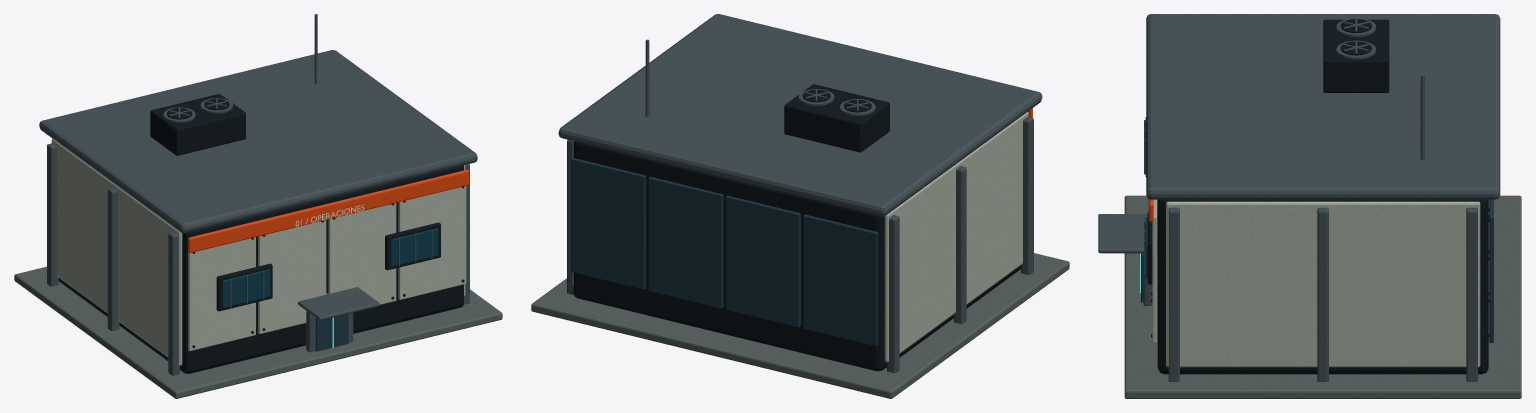
File: Operaciones.gltf
3 views of the same model, side by side, from view 1: azimuth 30°, elevation 25°; view 2: azimuth 150°, elevation 25°; view 3: azimuth 270°, elevation 25° (orthographic). The views are drawn at different scales.
Parts seen in each view (by area): view 1: Operaciones_Metal_gris, Operaciones_Panel_marfil, Operaciones_Acero_oscuro, Operaciones_Hormigon, Operaciones_Naranja, Operaciones_Vidrio, Operaciones_Panel_azul; view 2: Operaciones_Metal_gris, Operaciones_Panel_azul, Operaciones_Acero_oscuro, Operaciones_Panel_marfil, Operaciones_Hormigon; view 3: Operaciones_Metal_gris, Operaciones_Panel_marfil, Operaciones_Hormigon, Operaciones_Acero_oscuro, Operaciones_Panel_azul.
Part boxes in pixels (left/top/right/bottom): Operaciones_Metal_gris: left=39, top=14, right=477, bottom=375; Operaciones_Panel_marfil: left=51, top=139, right=466, bottom=365; Operaciones_Acero_oscuro: left=58, top=94, right=464, bottom=373; Operaciones_Hormigon: left=14, top=266, right=502, bottom=398; Operaciones_Naranja: left=188, top=169, right=469, bottom=252; Operaciones_Vidrio: left=222, top=228, right=438, bottom=307; Operaciones_Panel_azul: left=315, top=314, right=348, bottom=351; Operaciones_Metal_gris: left=558, top=14, right=1042, bottom=373; Operaciones_Panel_azul: left=571, top=158, right=878, bottom=346; Operaciones_Acero_oscuro: left=573, top=84, right=1020, bottom=371; Operaciones_Panel_marfil: left=572, top=112, right=1028, bottom=362; Operaciones_Hormigon: left=531, top=253, right=1069, bottom=398; Operaciones_Metal_gris: left=1098, top=14, right=1500, bottom=381; Operaciones_Panel_marfil: left=1152, top=199, right=1480, bottom=367; Operaciones_Hormigon: left=1124, top=195, right=1521, bottom=398; Operaciones_Acero_oscuro: left=1147, top=19, right=1489, bottom=374; Operaciones_Panel_azul: left=1141, top=199, right=1493, bottom=342.
Bounding box in the file's own units: 28 × 19 × 25.6.
9 materials, 9 textured.
